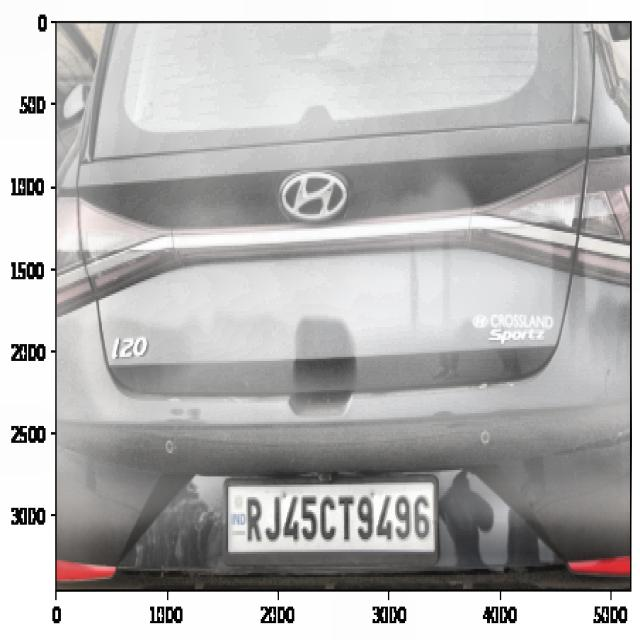license_plate: (241, 483, 436, 552)
